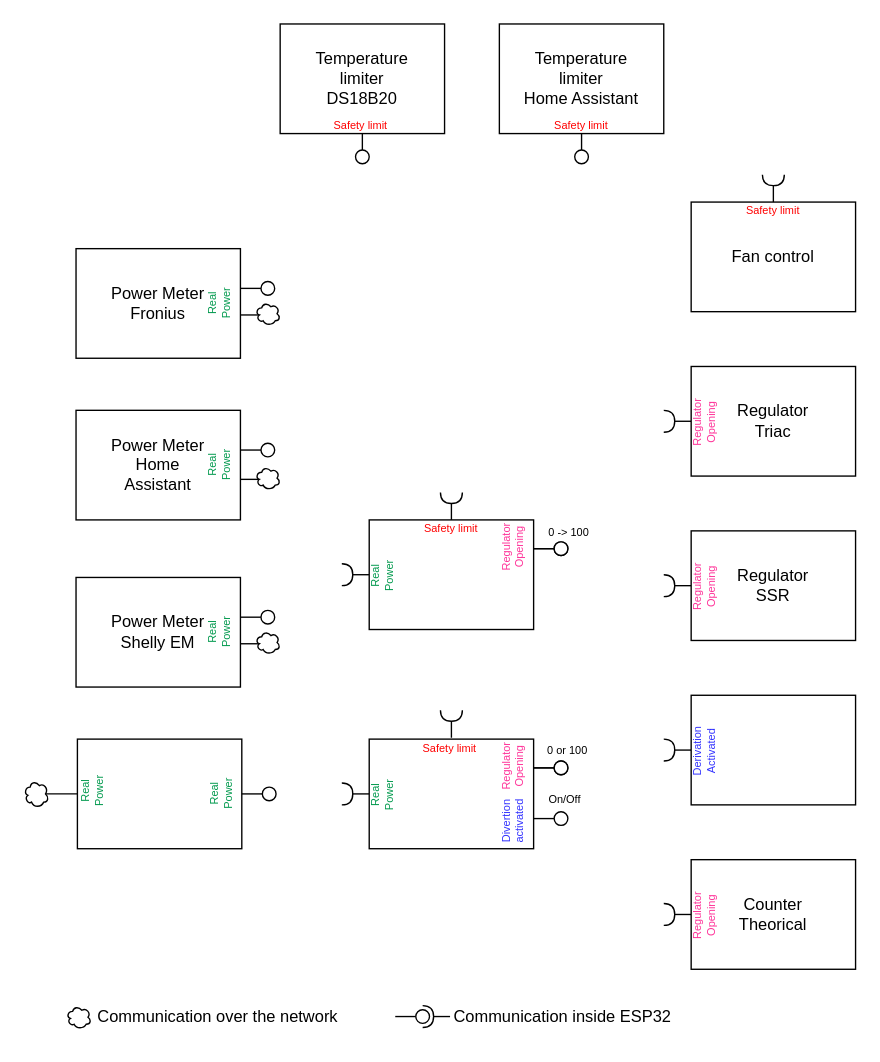
Image size: 880x1062. Some labels were removed from this diagram. Here are the shapes that lost their labels. From the top down, the box of each, then its label:
(368, 519, 534, 630): Engine variable
(690, 694, 856, 805): Regulator Meca. Relay
(76, 738, 242, 849): Power Meter Proxy Client
(368, 738, 534, 849): Engine On Off
